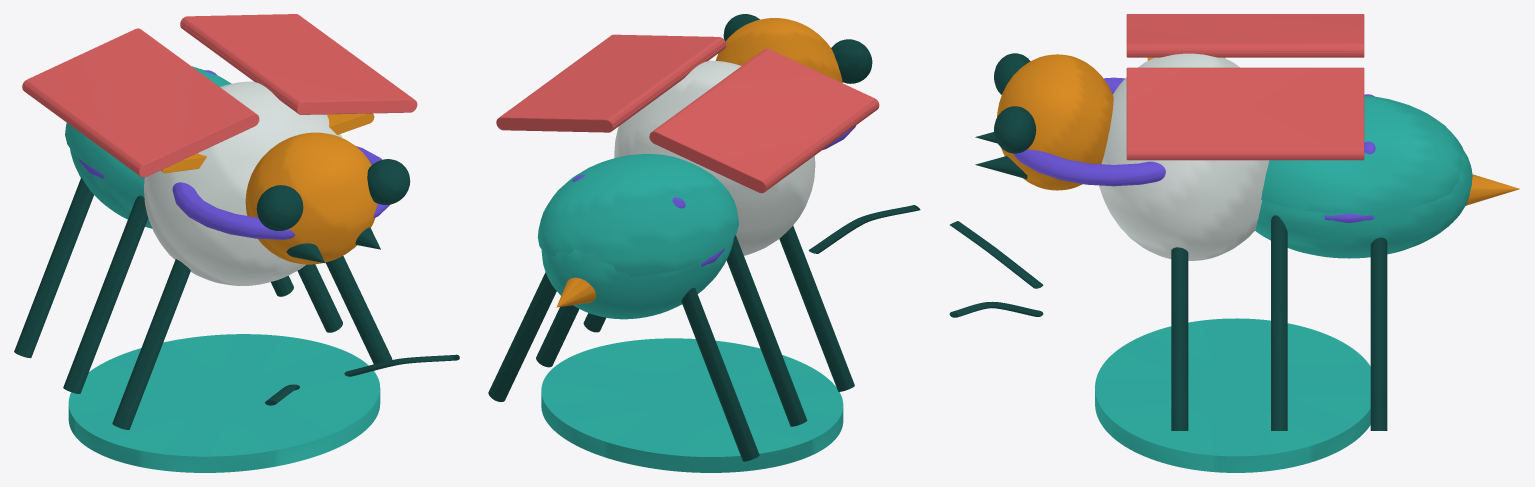
File: 0013_昆虫图鉴_蚊子.glb
3 renders of one model, left to right at view 1: azimuth 30°, elevation 25°; view 2: azimuth 150°, elevation 25°; view 3: azimuth 270°, elevation 25°, orthographic. The views are drawn at different scales.
Visible parts, largest first — view 1: card_0013; view 2: card_0013; view 3: card_0013.
Boxes of the visible parts, x1=… form: card_0013: x1=14, y1=14, x2=459, y2=472; card_0013: x1=488, y1=14, x2=920, y2=472; card_0013: x1=949, y1=14, x2=1519, y2=472.
Size of the model in its own units: 0.8498 by 1 by 1.49.
